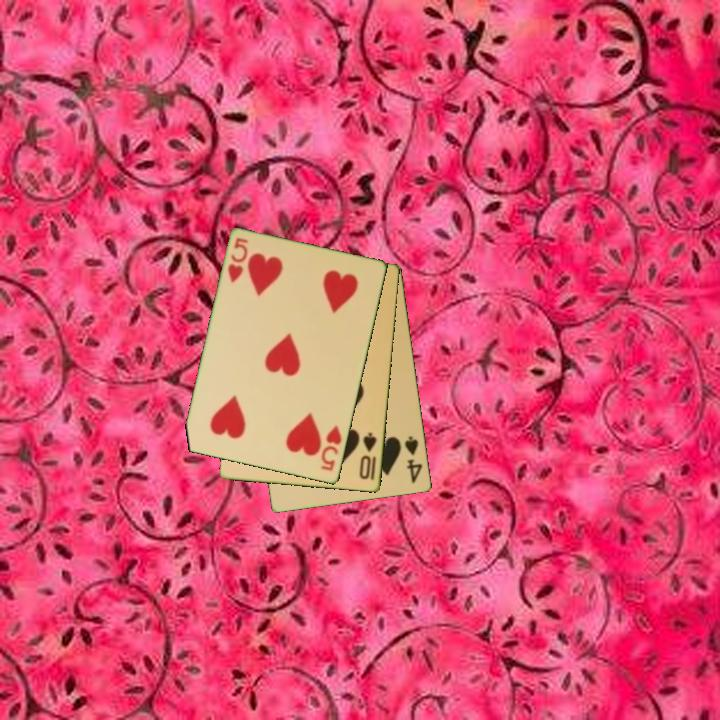10s: (356, 429, 380, 483)
4s: (401, 433, 425, 487)
5h: (317, 422, 345, 474), (224, 234, 251, 286)
